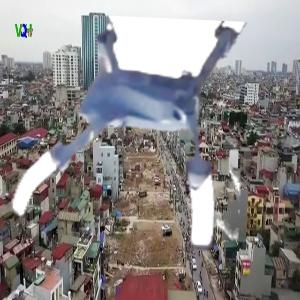drone: (3, 17, 246, 260)
